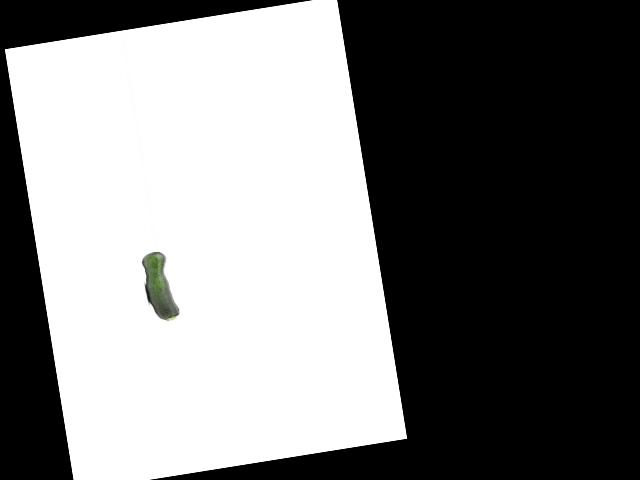cucumber: (140, 250, 180, 324)
